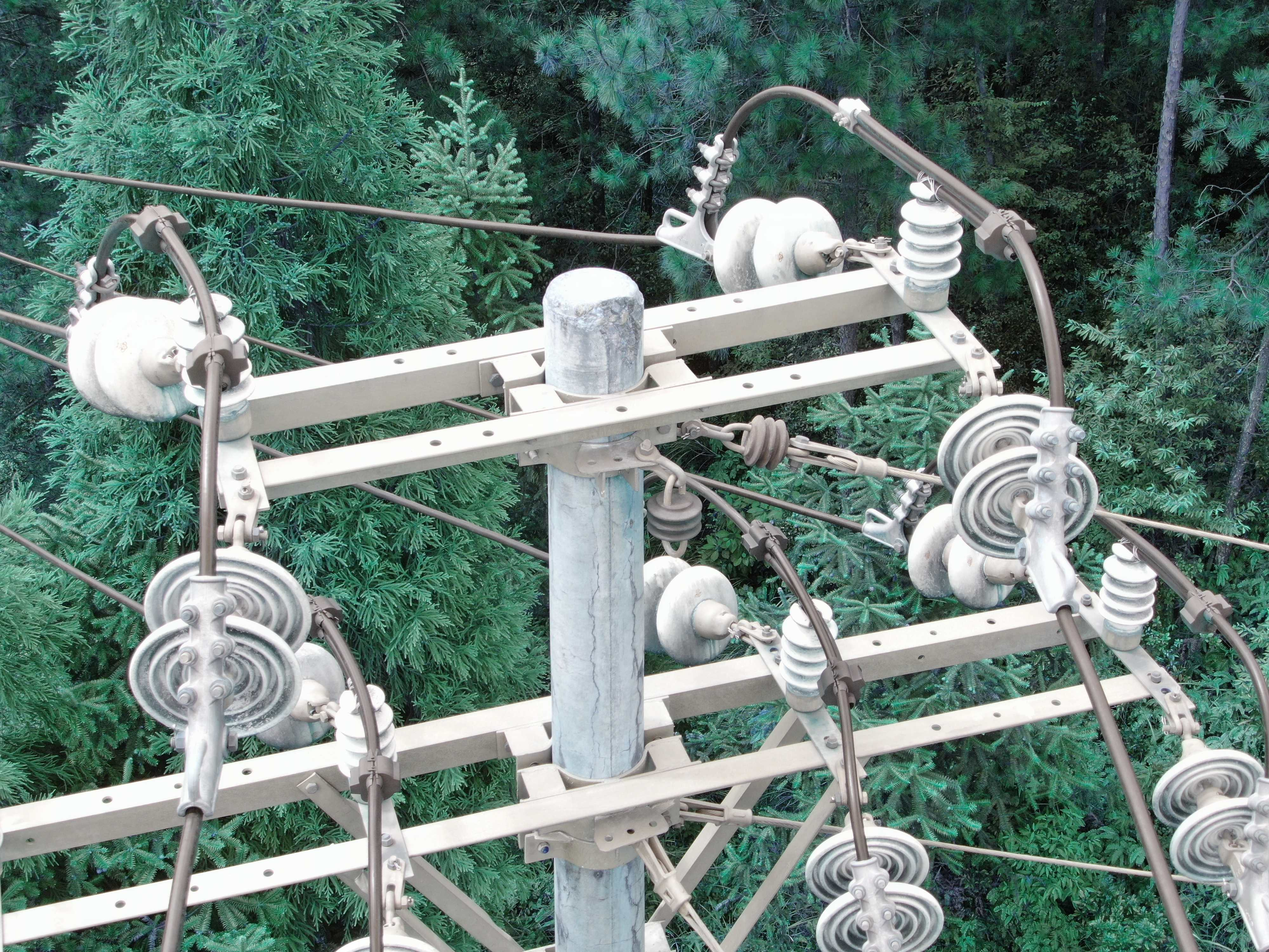severe_soiling_no_discharge_whole: (125, 543, 313, 742), (934, 388, 1104, 557), (799, 810, 950, 946), (64, 294, 194, 425), (1148, 736, 1262, 882), (708, 192, 850, 295), (902, 504, 1022, 605), (644, 553, 740, 665), (895, 172, 968, 318)
